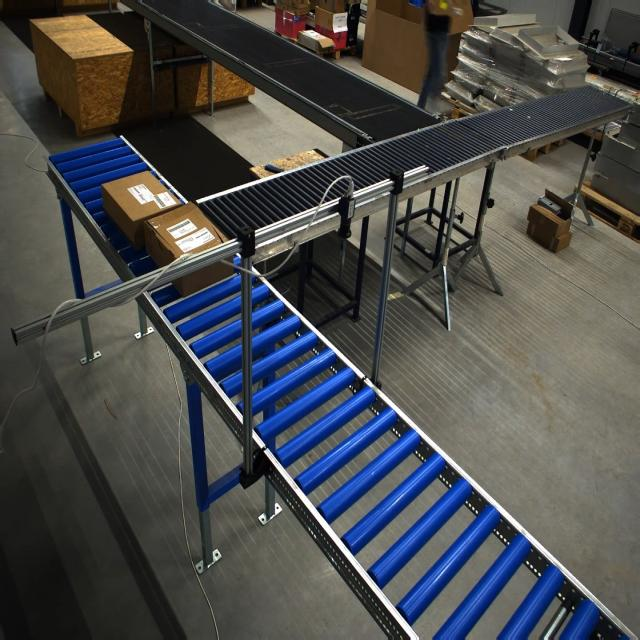box: (142, 202, 234, 294), (100, 171, 182, 251)
